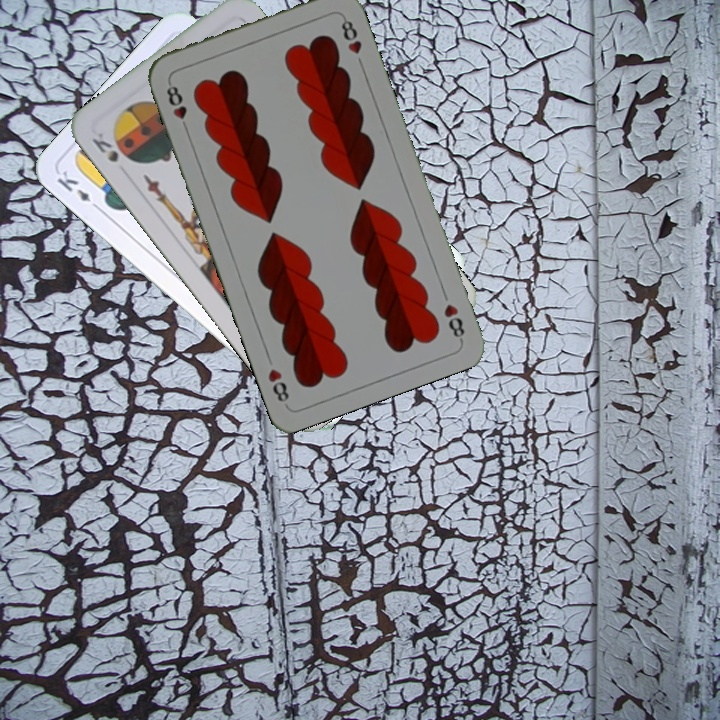EK: (53, 166, 104, 213)
H8: (162, 77, 192, 135), (439, 299, 468, 344)
SK: (88, 128, 121, 165)
